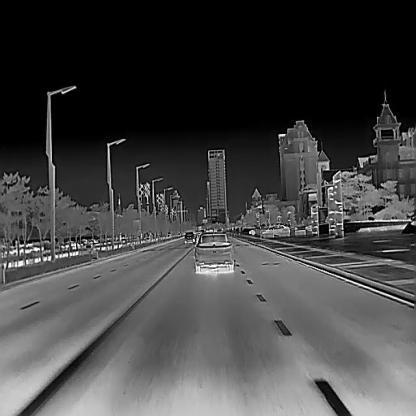car: (193, 232, 233, 272), (261, 224, 290, 237), (248, 227, 267, 236), (183, 231, 193, 243)
